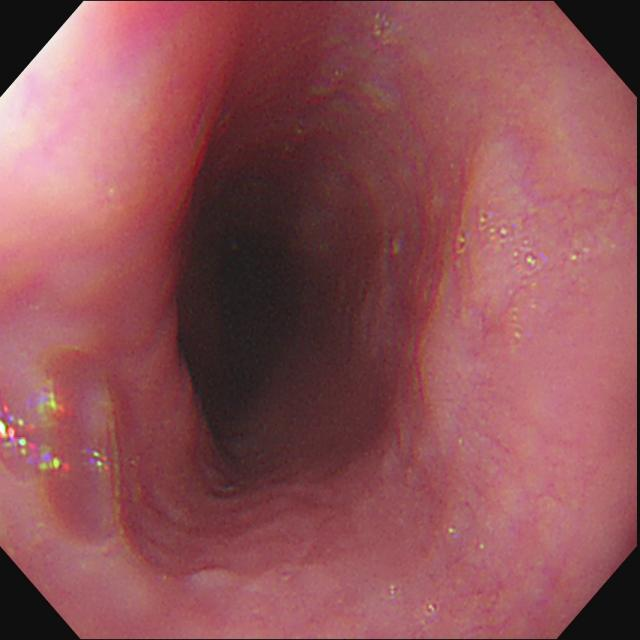E: (199, 218, 292, 408)
T: (478, 213, 540, 273)
U: (2, 387, 71, 473)
